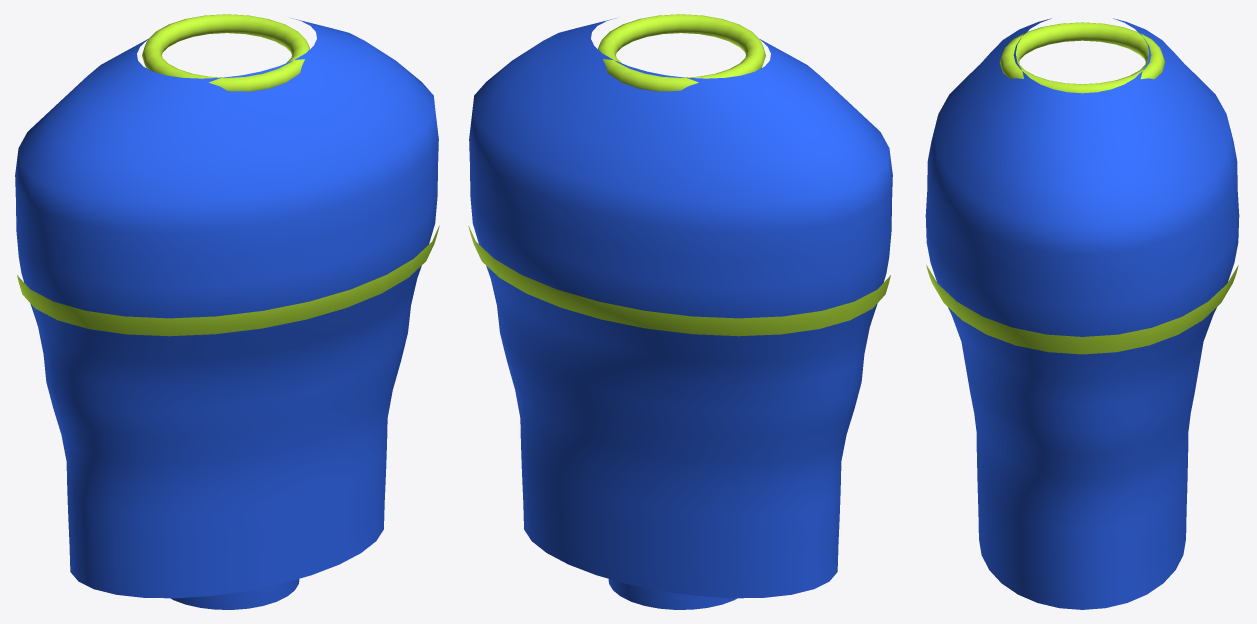
Rendered from top_tee_male.glb.
3 views of the same model, side by side, from view 1: azimuth 30°, elevation 25°; view 2: azimuth 150°, elevation 25°; view 3: azimuth 270°, elevation 25° (orthographic). The views are drawn at different scales.
Visible parts, largest first — view 1: shirt, stripe, collar, sleeve; view 2: shirt, stripe, collar, sleeve; view 3: shirt, stripe, collar.
Boxes of the visible parts, x1,y1,x2,y2 form: shirt: [15, 18, 438, 598]; stripe: [17, 225, 439, 336]; collar: [142, 14, 309, 91]; sleeve: [171, 579, 299, 609]; shirt: [469, 18, 892, 598]; stripe: [468, 225, 890, 336]; collar: [598, 14, 765, 91]; sleeve: [608, 579, 736, 609]; shirt: [925, 18, 1239, 609]; stripe: [926, 265, 1238, 354]; collar: [999, 22, 1165, 93].
Bounding box in the file's own units: 0.3634 × 0.47 × 0.2632.
